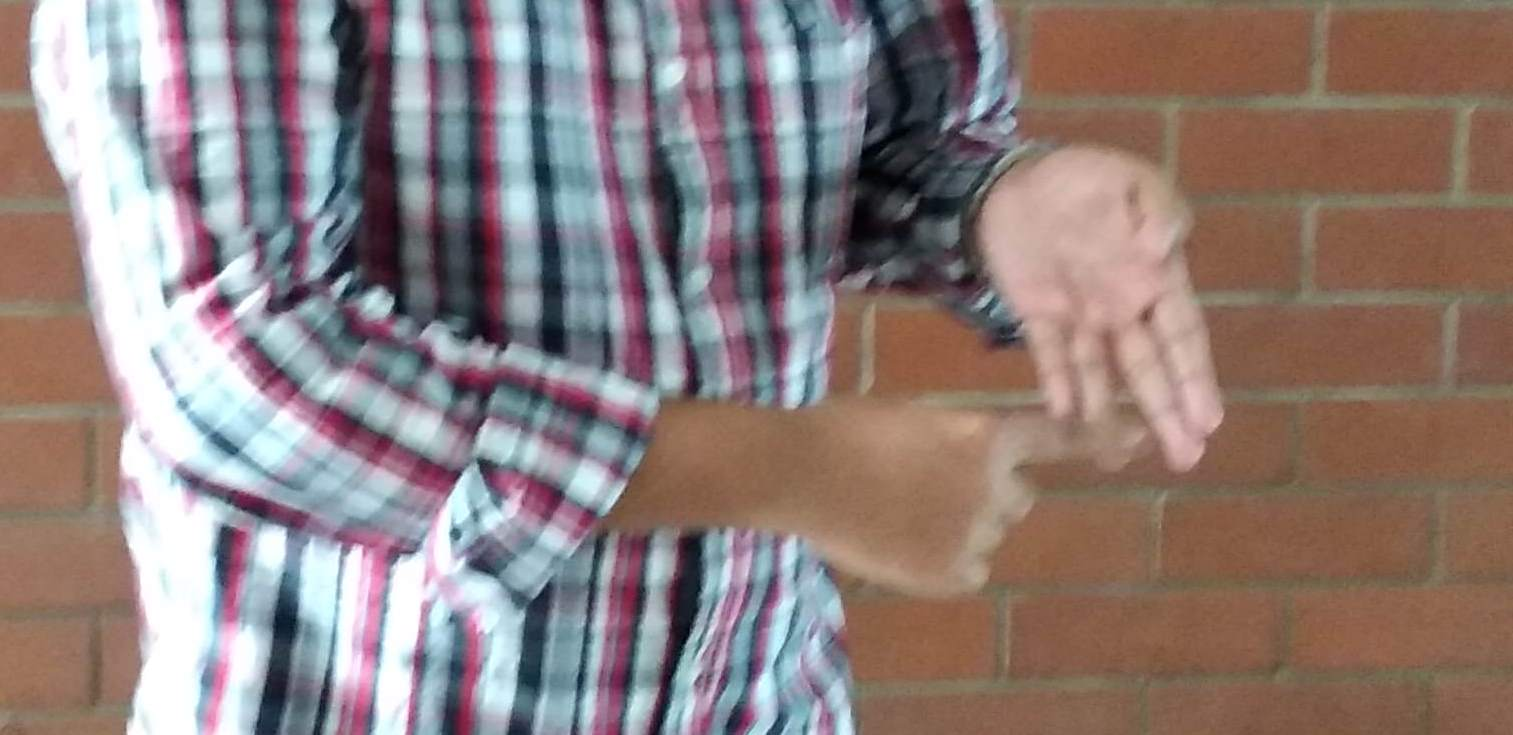e: (864, 186, 1235, 617)
